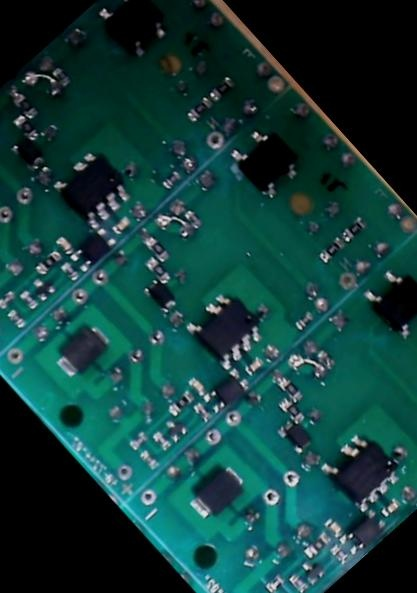chip-capacitor: (320, 515, 345, 541), (377, 496, 402, 520), (240, 354, 265, 378), (52, 233, 76, 257), (109, 214, 133, 237), (185, 375, 207, 398)
chip-resistor: (299, 529, 333, 562), (313, 235, 347, 267), (273, 371, 305, 404), (141, 254, 173, 286), (9, 111, 41, 143), (204, 73, 237, 104), (164, 388, 196, 419), (337, 214, 369, 245), (31, 246, 63, 277), (182, 94, 214, 125), (276, 395, 306, 427), (141, 233, 171, 265), (11, 91, 38, 121), (290, 309, 316, 334), (326, 542, 350, 567), (189, 399, 213, 424), (181, 206, 205, 231), (2, 307, 26, 332), (125, 429, 149, 453), (16, 288, 40, 312), (57, 259, 81, 283), (159, 168, 183, 192), (284, 570, 309, 593), (314, 347, 337, 371), (136, 448, 159, 472), (149, 428, 172, 452), (261, 571, 286, 593), (49, 64, 71, 87), (0, 287, 17, 311)
diode: (181, 459, 250, 526), (48, 318, 114, 383), (273, 414, 315, 457), (139, 276, 179, 317), (7, 132, 46, 173)
ic: (314, 425, 406, 517), (179, 283, 270, 374), (48, 143, 138, 233), (222, 118, 307, 204), (355, 258, 417, 345), (91, 0, 173, 62), (334, 506, 388, 558), (198, 365, 251, 417), (66, 225, 118, 275)
transistor: (294, 555, 327, 588), (158, 412, 190, 445), (25, 272, 57, 304)
